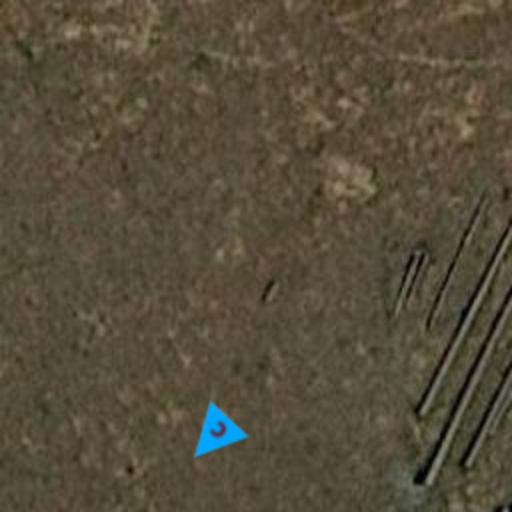triangle: (174, 400, 250, 476)
